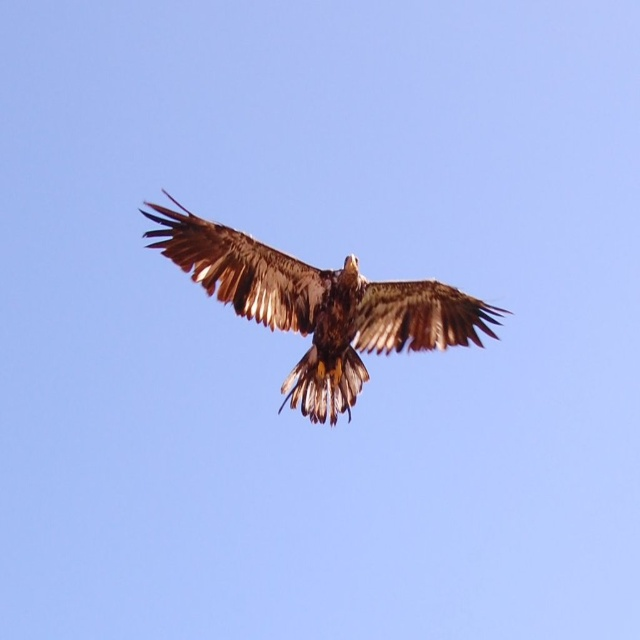Eagle: (139, 188, 514, 428)
